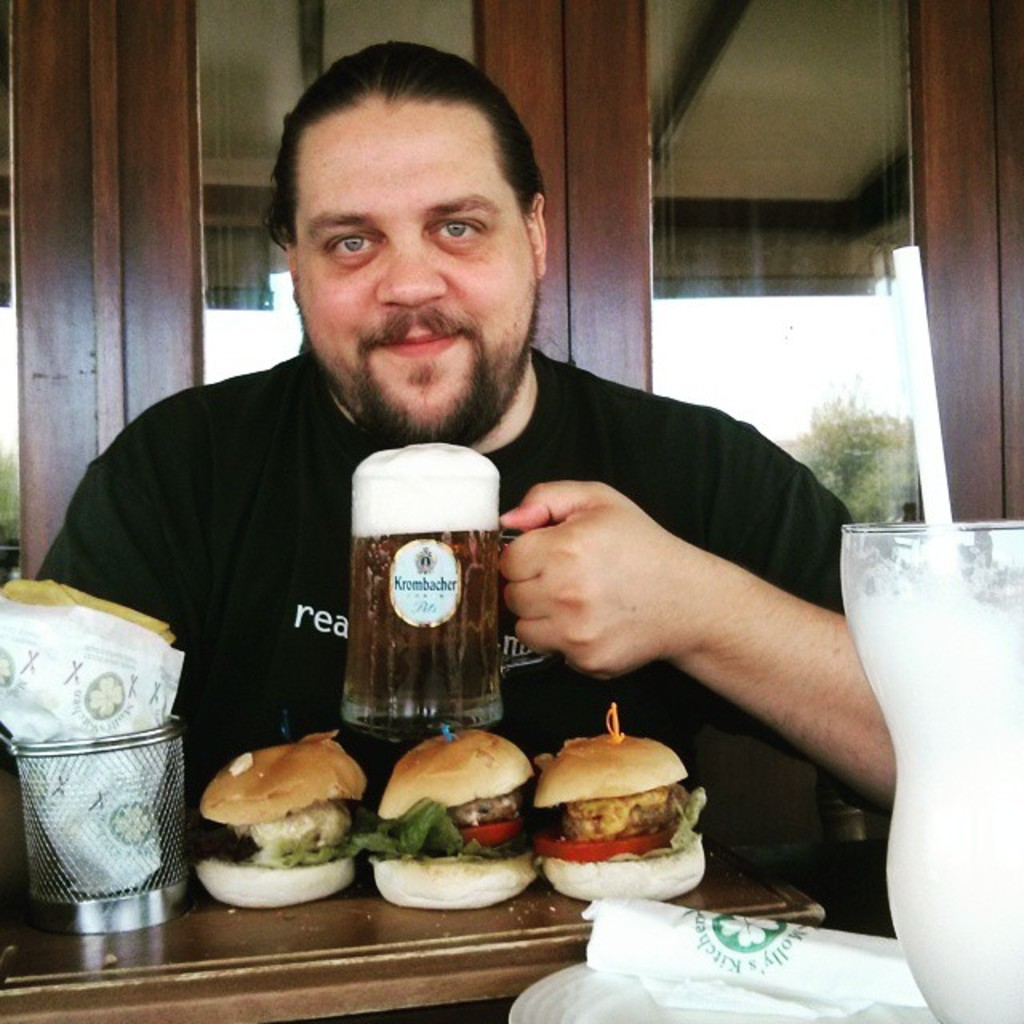Beer: (353, 441, 518, 713)
